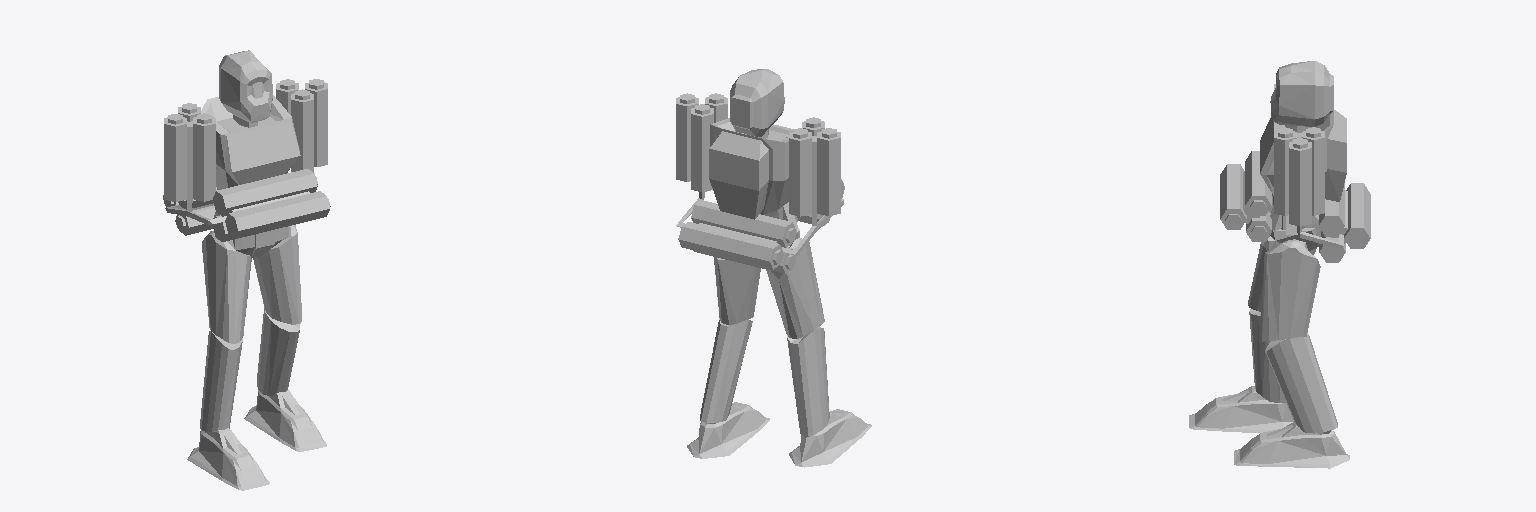
File: robots_000006.obj
3 views of the same model, side by side, from view 1: azimuth 30°, elevation 25°; view 2: azimuth 150°, elevation 25°; view 3: azimuth 270°, elevation 25° (orthographic).
Parts seen in each view (by area): view 1: Cylinder.004_Cylinder.006, Chest_plate_Cube.004, R_Thigh_Cube.005, R_Thigh.002_Cube.027, Head_base.002_Cube.030, R_Shin_Cube.007, R_Foot_Cube, R_Foot.002_Cube.035, R_Shin.002_Cube.029, Pelvis_Cube.006; view 2: Cylinder.004_Cylinder.006, Chest_plate_Cube.004, R_Shin_Cube.007, R_Thigh_Cube.005, R_Shin.002_Cube.029, Head_base.002_Cube.030, R_Foot_Cube, R_Foot.002_Cube.035, R_Thigh.002_Cube.027; view 3: Cylinder.004_Cylinder.006, R_Thigh.002_Cube.027, R_Shin.002_Cube.029, R_Foot.002_Cube.035, Head_base.002_Cube.030, R_Foot_Cube, Chest_plate_Cube.004, R_Shin_Cube.007, Pelvis_Cube.006, R_Thigh_Cube.005.
Part boxes in pixels (x1,y1,x2,y2): Cylinder.004_Cylinder.006: (163,79,330,241); Chest_plate_Cube.004: (201,95,300,218); R_Thigh_Cube.005: (202,231,251,343); R_Thigh.002_Cube.027: (253,225,301,324); Head_base.002_Cube.030: (219,50,272,122); R_Shin_Cube.007: (200,331,242,431); R_Foot_Cube: (187,428,269,490); R_Foot.002_Cube.035: (244,390,326,451); R_Shin.002_Cube.029: (257,308,300,395); Pelvis_Cube.006: (233,226,288,257); Cylinder.004_Cylinder.006: (676,93,844,273); Chest_plate_Cube.004: (709,118,797,229); R_Shin_Cube.007: (787,327,829,436); R_Thigh_Cube.005: (766,238,824,338); R_Shin.002_Cube.029: (700,318,752,422); Head_base.002_Cube.030: (730,69,784,136); R_Foot_Cube: (789,409,871,467); R_Foot.002_Cube.035: (687,402,769,458); R_Thigh.002_Cube.027: (714,257,760,324); Cylinder.004_Cylinder.006: (1220,84,1370,262); R_Thigh.002_Cube.027: (1260,242,1320,341); R_Shin.002_Cube.029: (1265,333,1337,433); R_Foot.002_Cube.035: (1234,422,1349,468); Head_base.002_Cube.030: (1270,61,1333,126); R_Foot_Cube: (1189,386,1293,432); Chest_plate_Cube.004: (1260,110,1346,234); R_Shin_Cube.007: (1249,309,1285,402); Pelvis_Cube.006: (1261,215,1320,250); R_Thigh_Cube.005: (1248,244,1316,311).
Bounding box in the file's own units: 1.38 × 3.05 × 1.32.